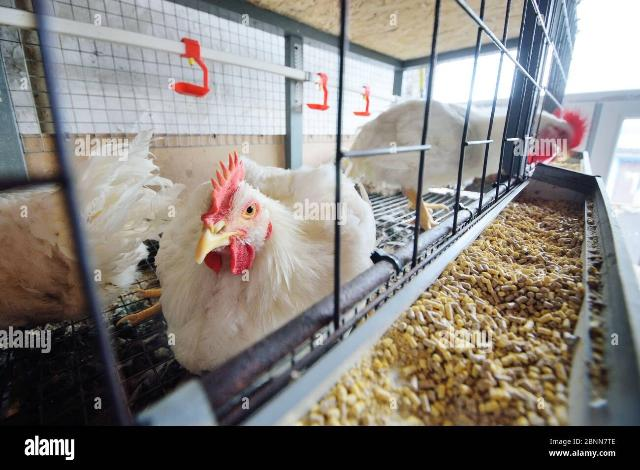Chicken: (154, 152, 379, 376), (0, 129, 176, 325), (347, 99, 591, 232)
